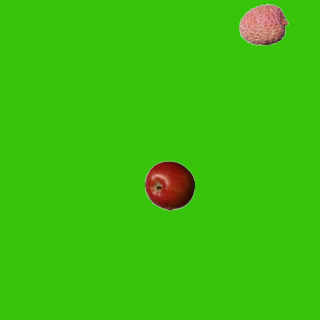Apple Braeburn: (144, 160, 194, 210)
Lychee: (238, 0, 288, 49)
